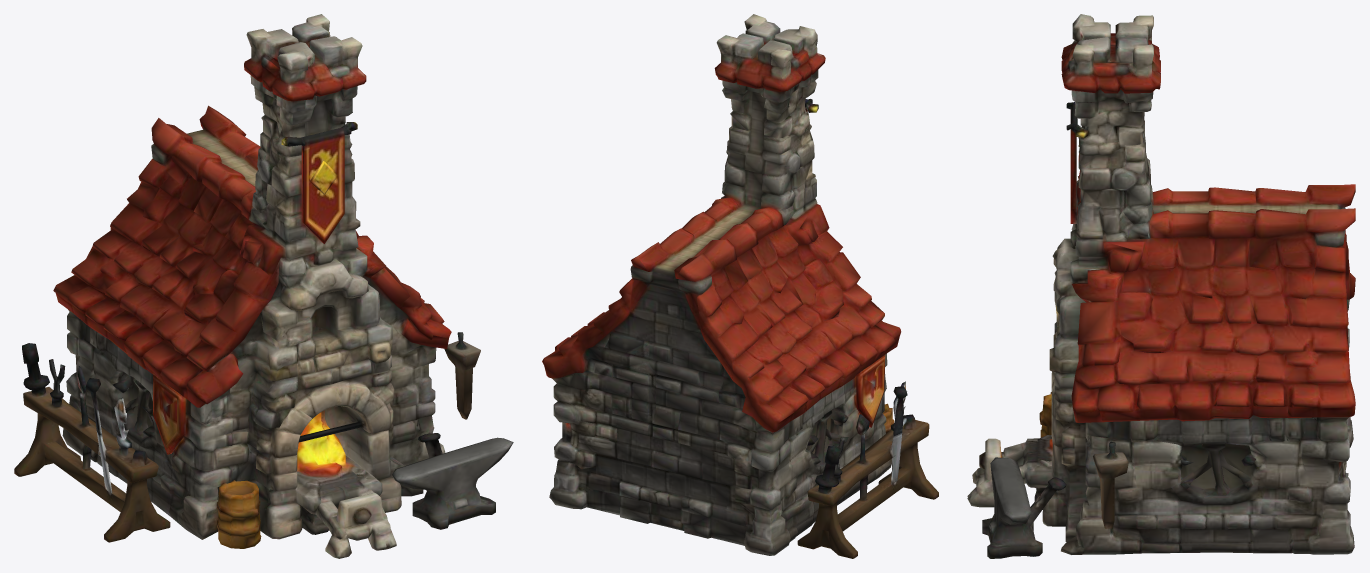
The model's file is herreria_tripo.glb.
3 renders of one model, left to right at view 1: azimuth 30°, elevation 25°; view 2: azimuth 150°, elevation 25°; view 3: azimuth 270°, elevation 25°, orthographic. The views are drawn at different scales.
Visible parts, largest first — view 1: tripo_node_5b9a9e92-3382-42e7-ad70-e79fd9e3c3c3; view 2: tripo_node_5b9a9e92-3382-42e7-ad70-e79fd9e3c3c3; view 3: tripo_node_5b9a9e92-3382-42e7-ad70-e79fd9e3c3c3.
Part boxes in pixels (x1,y1,x2,y2): tripo_node_5b9a9e92-3382-42e7-ad70-e79fd9e3c3c3: [14, 14, 513, 558]; tripo_node_5b9a9e92-3382-42e7-ad70-e79fd9e3c3c3: [542, 14, 938, 558]; tripo_node_5b9a9e92-3382-42e7-ad70-e79fd9e3c3c3: [967, 14, 1355, 558].
Bounding box in the file's own units: 0.797 × 0.9767 × 0.7397.
Materials: 1 (1 with a texture image).
